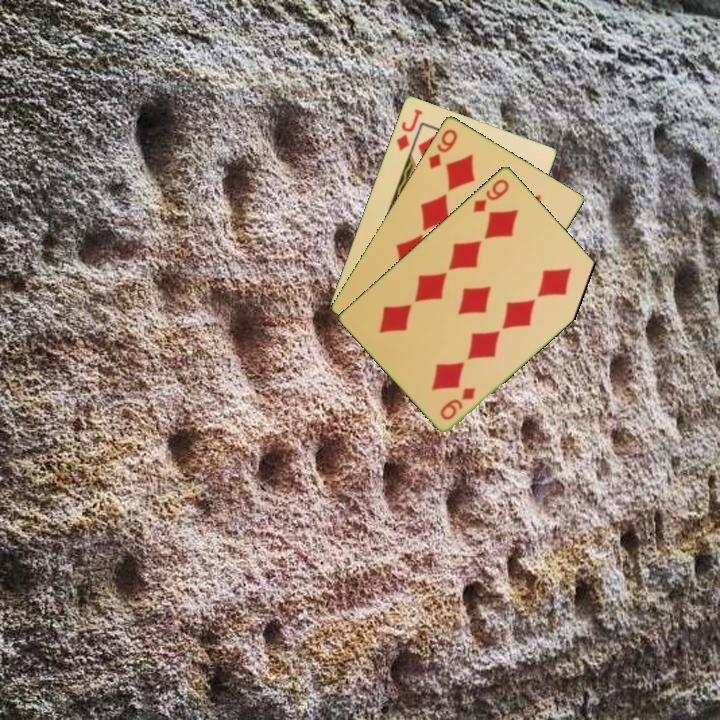9d: (469, 175, 512, 215), (436, 383, 479, 423), (425, 125, 460, 171)
Jd: (393, 105, 425, 153)
